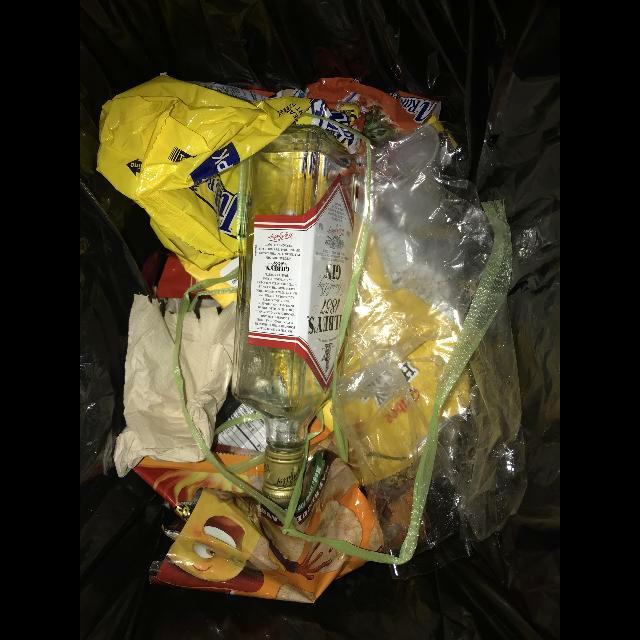food_wrapper: (96, 74, 363, 309), (133, 449, 404, 604), (306, 77, 445, 147)
glass_bottle: (234, 126, 356, 508)
paper: (113, 295, 236, 479)
plastic_bag: (310, 170, 528, 568)
